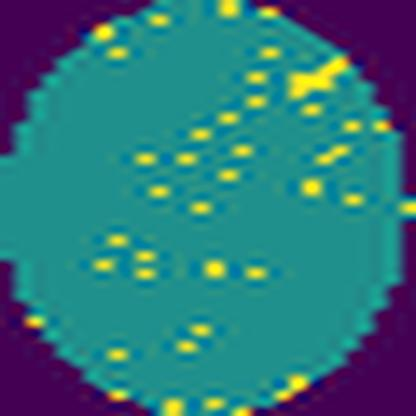Loc: (289, 58, 346, 100)
